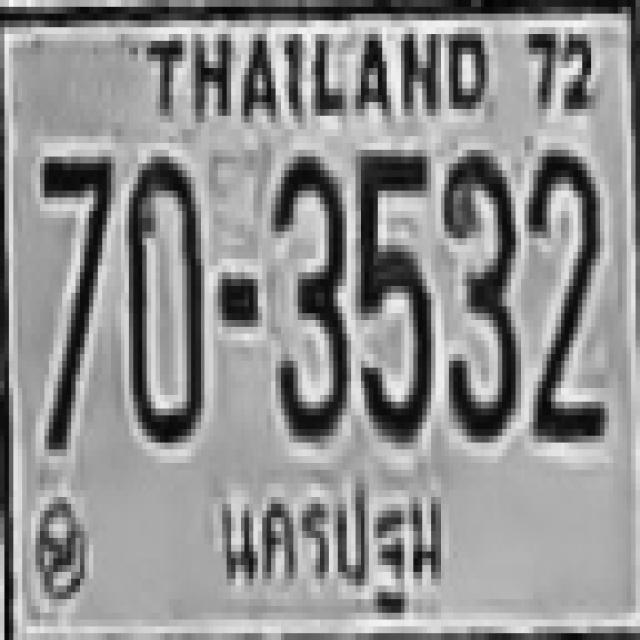0: (124, 150, 200, 436)
2: (526, 143, 598, 436)
3: (440, 150, 516, 436), (271, 150, 347, 436)
5: (353, 150, 429, 436)
7: (40, 153, 111, 446), (40, 150, 111, 354)
NakhonPathom: (208, 466, 451, 622)
